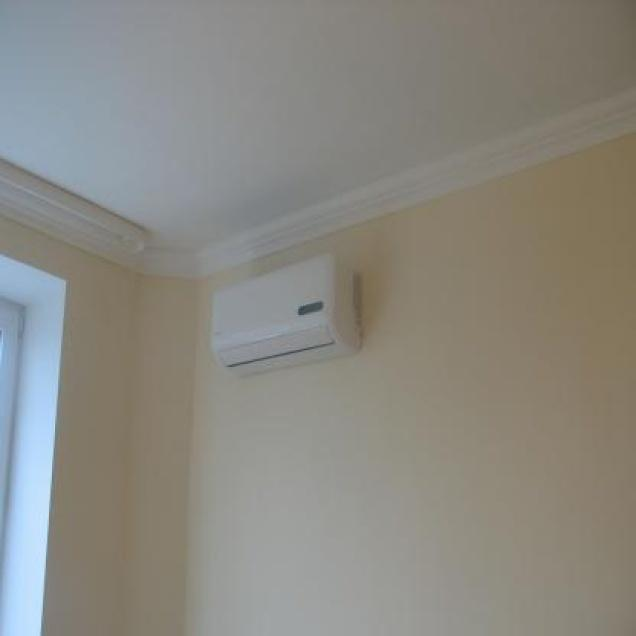AC: (209, 255, 362, 376)
